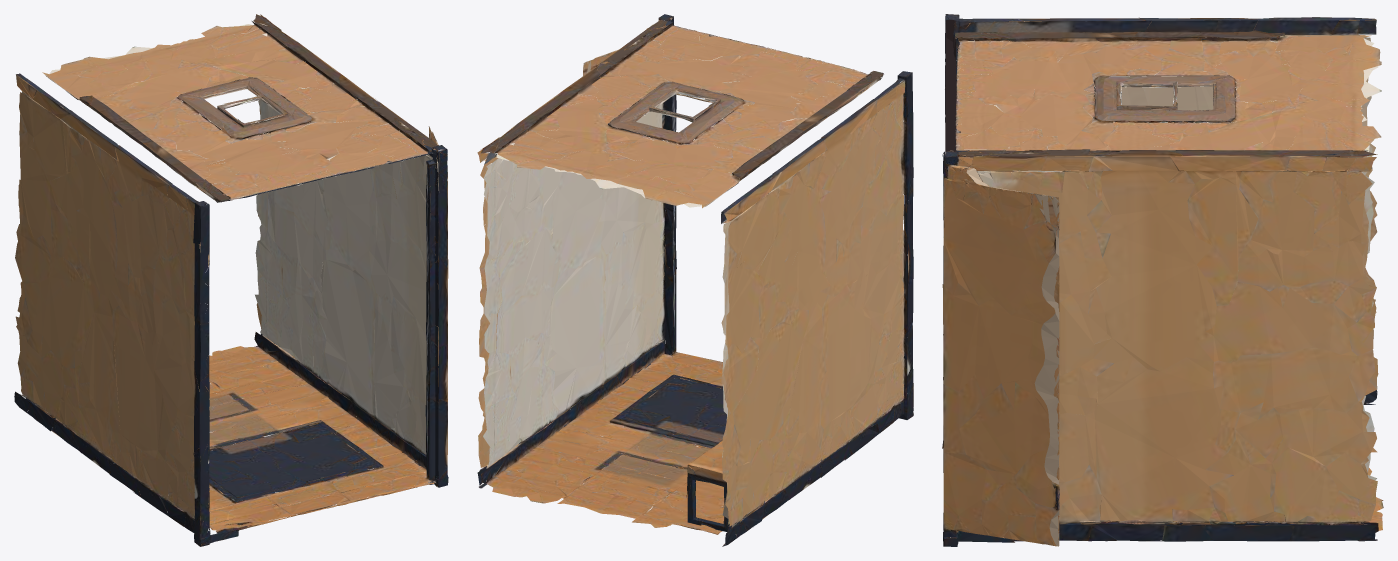
Rendered from room.glb.
3 views of the same model, side by side, from view 1: azimuth 30°, elevation 25°; view 2: azimuth 150°, elevation 25°; view 3: azimuth 270°, elevation 25° (orthographic). The views are drawn at different scales.
Parts seen in each view (by area): view 1: model_part5; view 2: model_part5; view 3: model_part5.
Part boxes in pixels (x1=…): model_part5: x1=14, y1=14, x2=448, y2=546; model_part5: x1=477, y1=14, x2=913, y2=546; model_part5: x1=942, y1=14, x2=1383, y2=546.
Size of the model in its own units: 2.27 by 2.62 by 2.65.
Materials: 1 (1 with a texture image).
